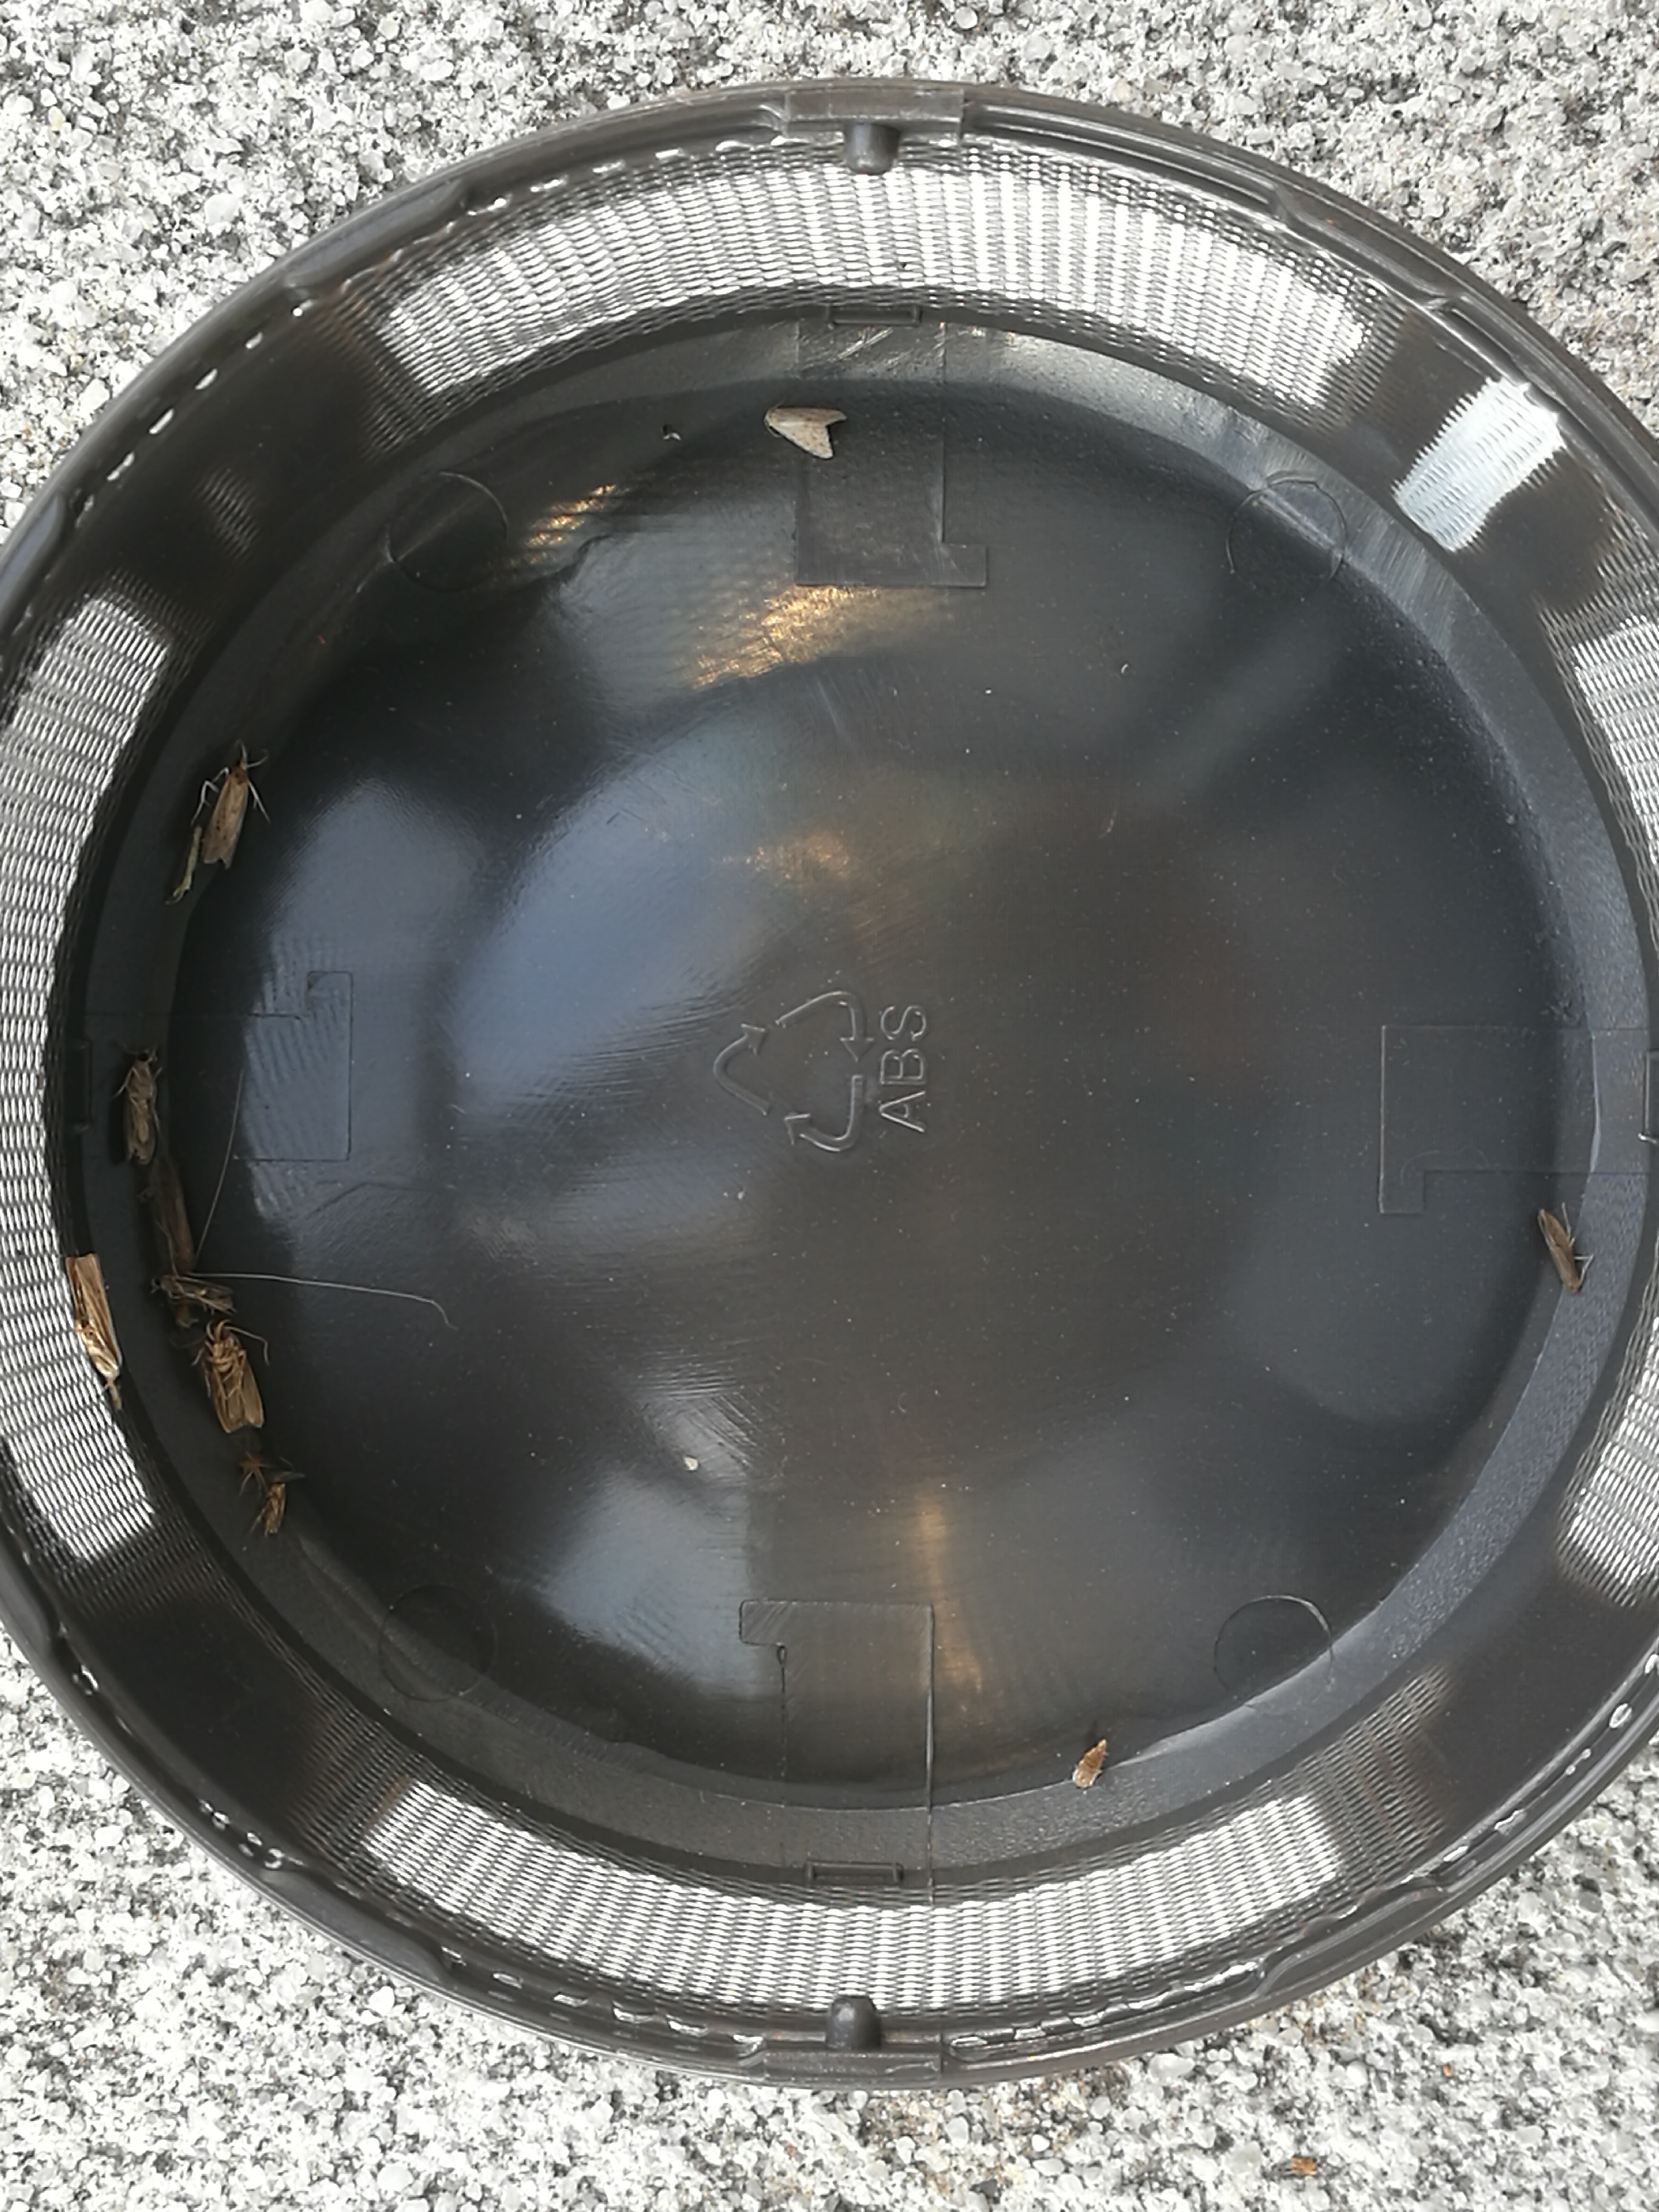mosquito: (64, 1254, 120, 1379), (202, 763, 249, 867), (150, 1162, 193, 1271), (120, 1047, 157, 1162), (1537, 1211, 1582, 1289), (152, 1273, 234, 1312), (263, 1480, 284, 1533)
moth: (200, 1322, 263, 1433), (765, 408, 845, 456)
